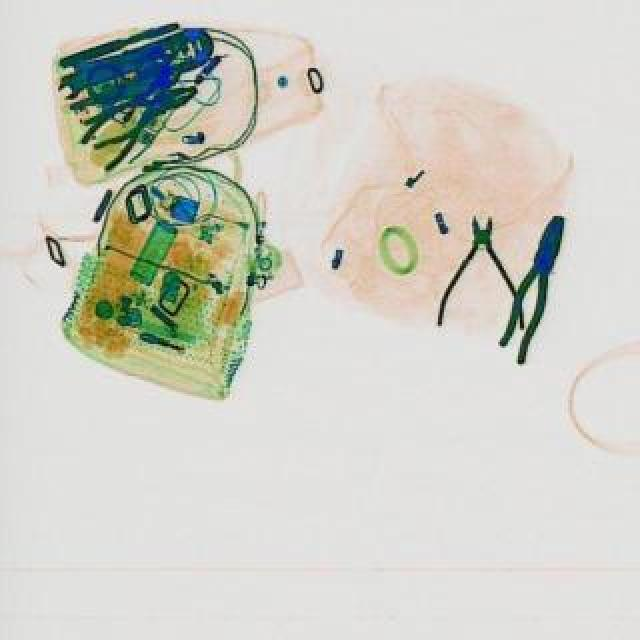scissors: (490, 214, 578, 370), (52, 54, 150, 106)
wrench: (50, 26, 222, 122), (434, 216, 526, 334), (76, 76, 204, 156)
